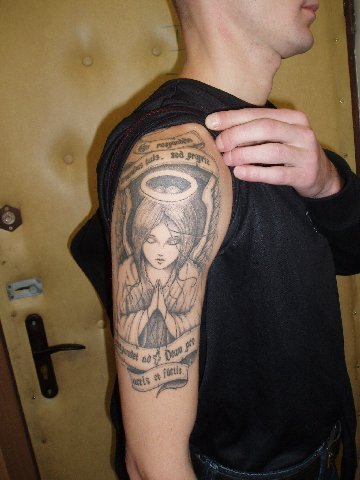tatu1_angel: (117, 174, 201, 338)
tatu3_bukva: (113, 340, 208, 386), (128, 133, 208, 173)
